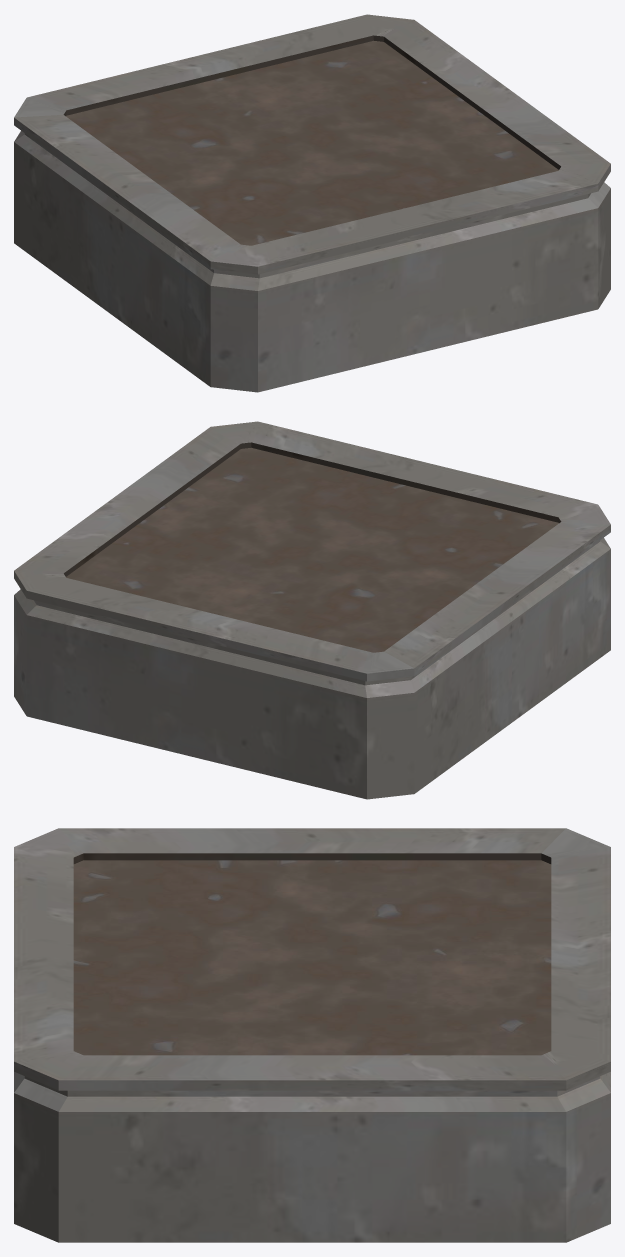
Rendered from dt-planter.glb.
The picture shows the model from 3 angles, top to bottom: view 1: azimuth 30°, elevation 25°; view 2: azimuth 150°, elevation 25°; view 3: azimuth 270°, elevation 25°; orthographic projection. The views are drawn at different scales.
Visible parts, largest first — view 1: Prop_Planter_Single; view 2: Prop_Planter_Single; view 3: Prop_Planter_Single.
Boxes of the visible parts, x1=… form: Prop_Planter_Single: x1=14, y1=14, x2=610, y2=392; Prop_Planter_Single: x1=14, y1=421, x2=610, y2=799; Prop_Planter_Single: x1=14, y1=828, x2=610, y2=1242.
Bounding box in the file's own units: 2 × 0.6 × 2.
Materials: 2 (2 with a texture image).
